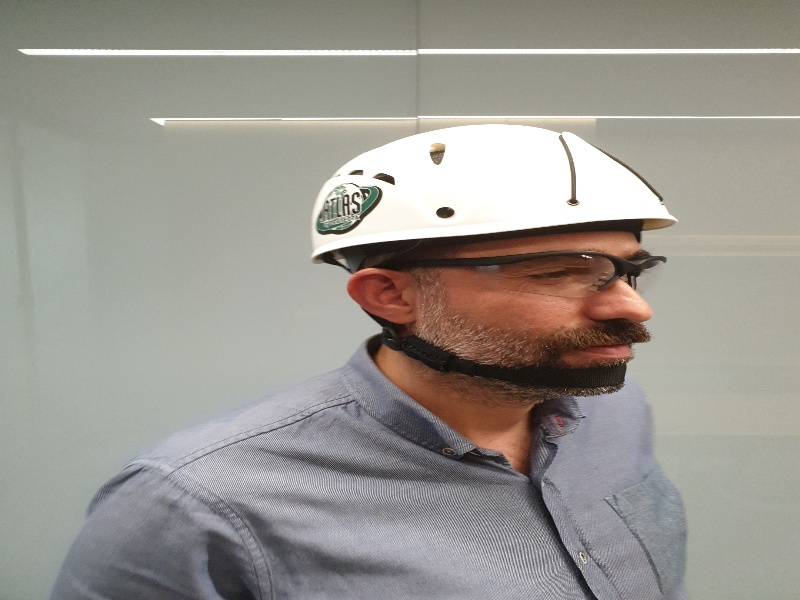Baret: (312, 124, 678, 243)
Gozluk: (381, 246, 669, 298)
